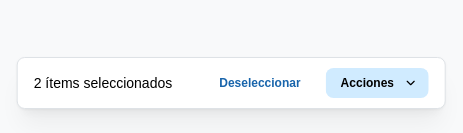
Test: SelectionBanner › con sólo onDelete, el menú muestra "Eliminar seleccionados" pero no "Exportar seleccionados" ni "Editar seleccionados"
Click the button "Acciones": [377, 83] box [326, 68, 428, 98]
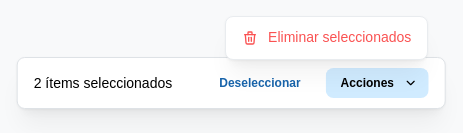
Now the menu item "Eliminar seleccionados" is shown, box [230, 21, 423, 55]
